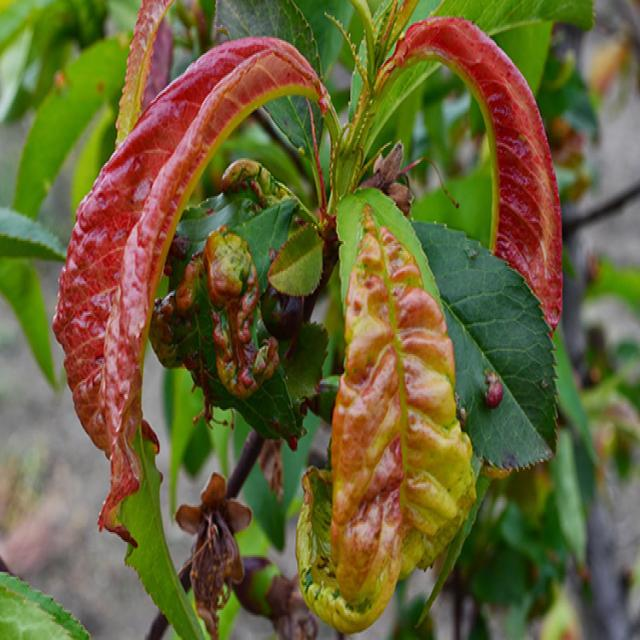peach_leaf_curl: (51, 32, 331, 545)
